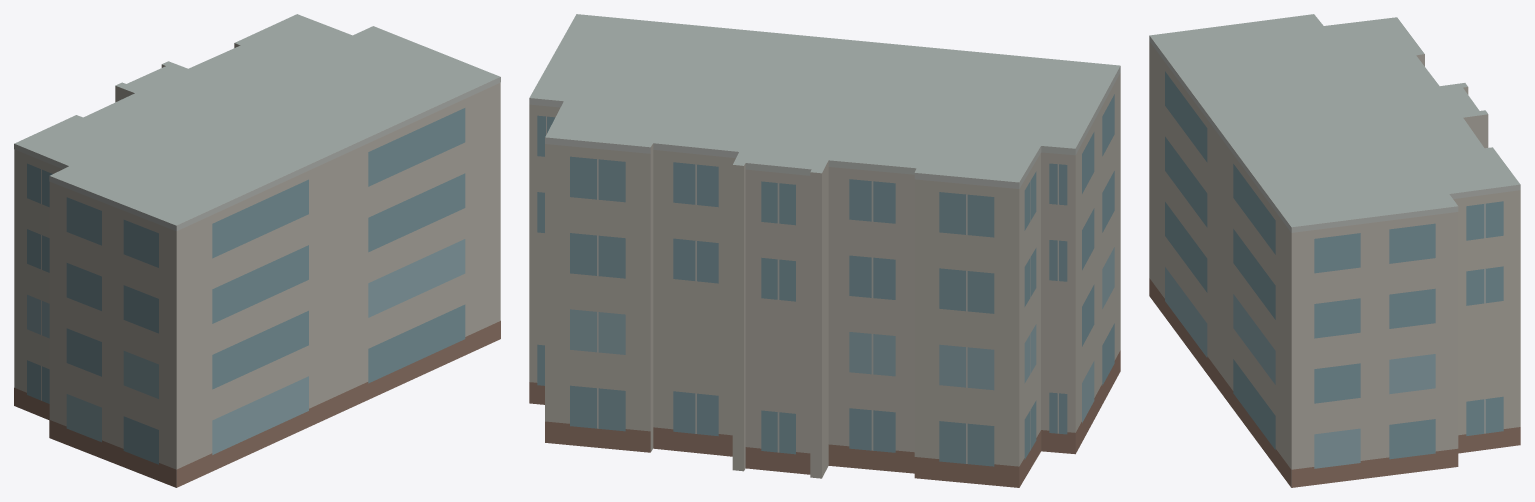
The model's file is survey-upis-32920963.glb.
The picture shows the model from 3 angles, left to right: view 1: azimuth 30°, elevation 25°; view 2: azimuth 150°, elevation 25°; view 3: azimuth 270°, elevation 25°; orthographic projection. The views are drawn at different scales.
Visible parts, largest first — view 1: survey-upis-32920963.tmp; view 2: survey-upis-32920963.tmp; view 3: survey-upis-32920963.tmp.
Boxes of the visible parts, bbox=[...] form: survey-upis-32920963.tmp: bbox=[14, 14, 500, 487]; survey-upis-32920963.tmp: bbox=[529, 14, 1120, 487]; survey-upis-32920963.tmp: bbox=[1149, 14, 1520, 487].
Bounding box in the file's own units: 19.85 × 11.3 × 14.6.
